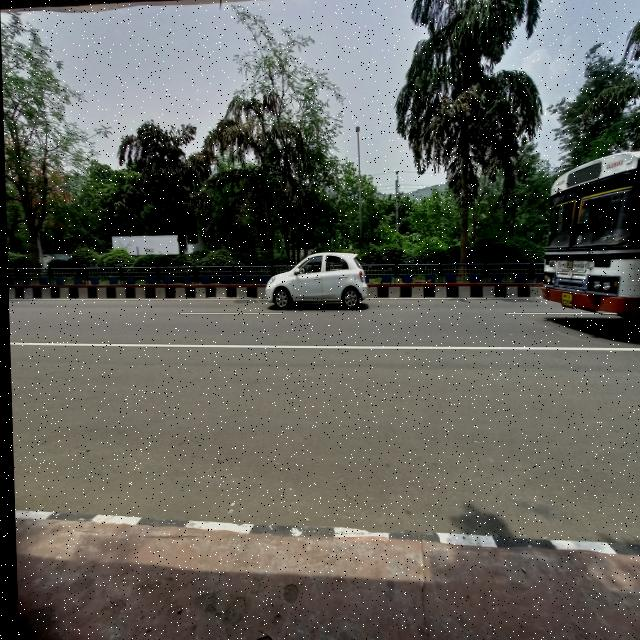bus: (529, 143, 640, 330)
car: (258, 238, 376, 322)
